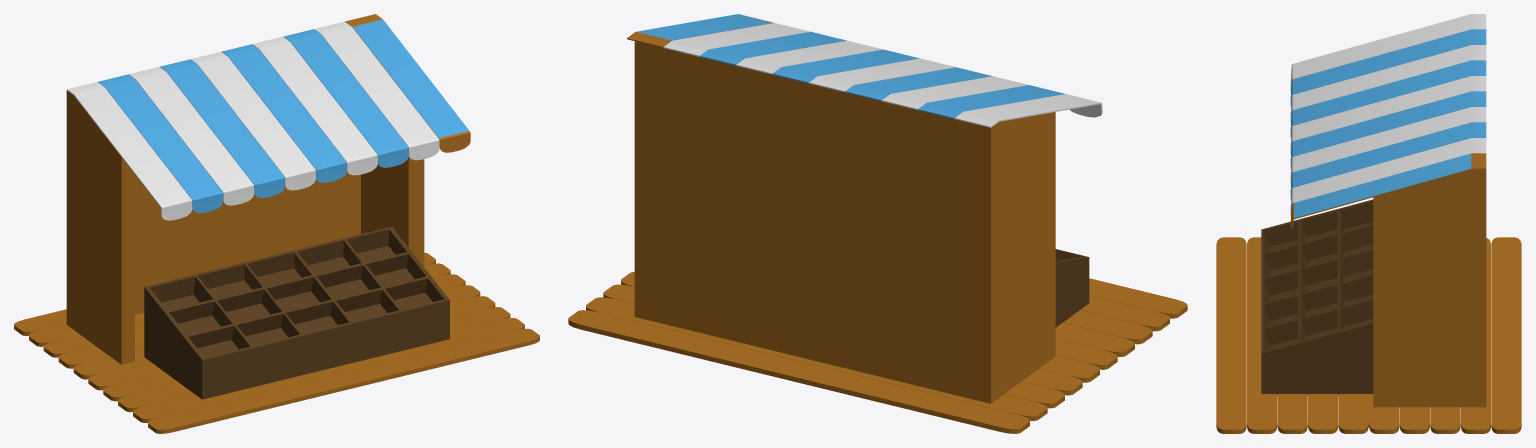
The model's file is exhange shop Level2.fbx.
3 views of the same model, side by side, from view 1: azimuth 30°, elevation 25°; view 2: azimuth 150°, elevation 25°; view 3: azimuth 270°, elevation 25° (orthographic). The views are drawn at different scales.
Parts seen in each view (by area): view 1: Cube.053; view 2: Cube.053; view 3: Cube.053.
Boxes of the visible parts, box(x1,y1,x2,y2) form: Cube.053: box(14, 14, 539, 433); Cube.053: box(568, 14, 1187, 433); Cube.053: box(1216, 14, 1521, 433).
Size of the model in its own units: 6668 by 3992 by 4468.
